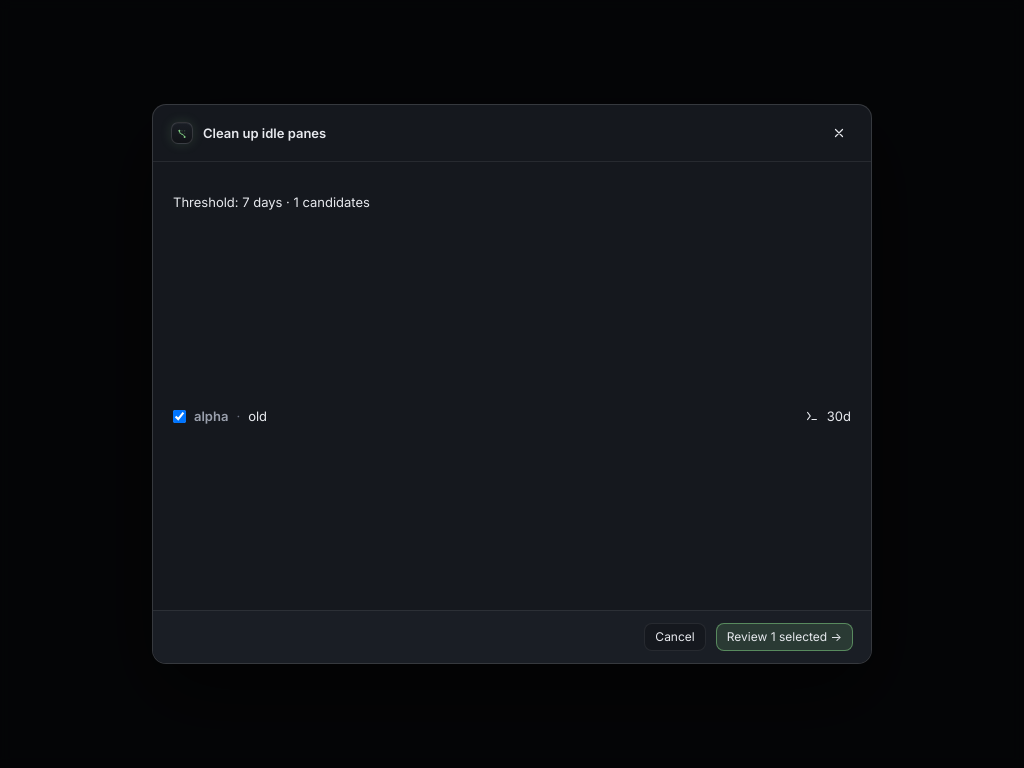
Test: CleanupModal — Step 2 (Confirm) › advances to the Confirm view when clicking 'Review N selected'
Click the button "Review 1 selected →". click: (784, 637)
box: [716,623,853,651]
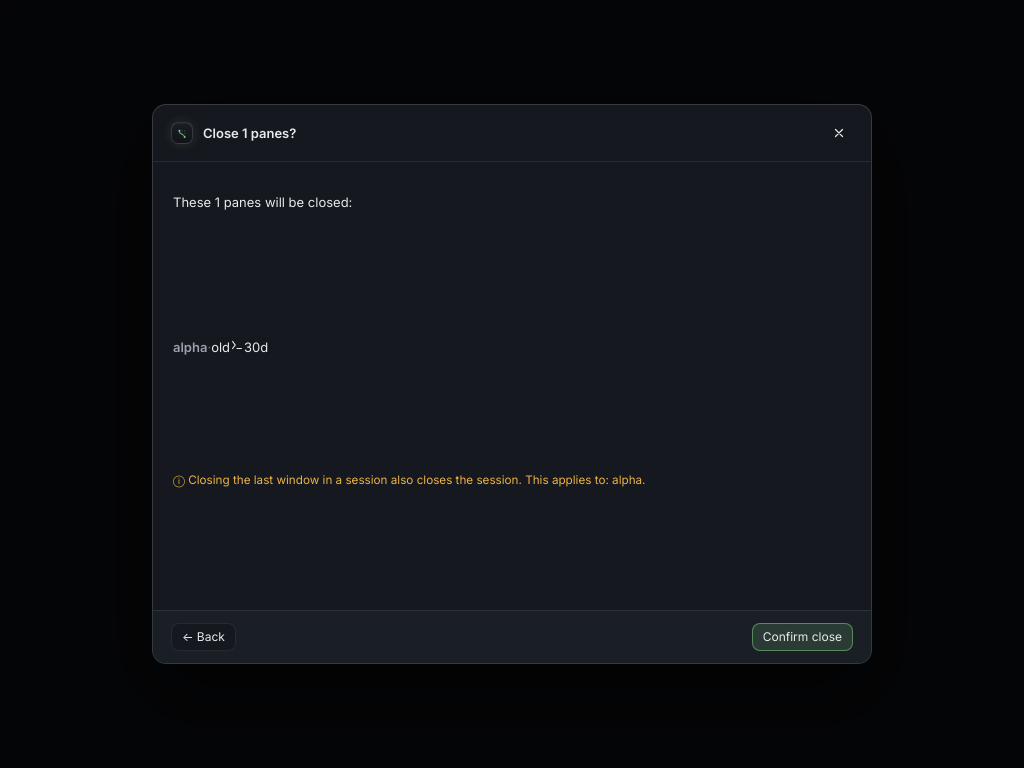
Expected: the text "alpha" is shown, [173,339,207,355]
Expected: the text "Close 1 panes?" is shown, [203,124,296,142]
Expected: the text "These 1 panes will be closed:" is shown, [173,194,352,210]
